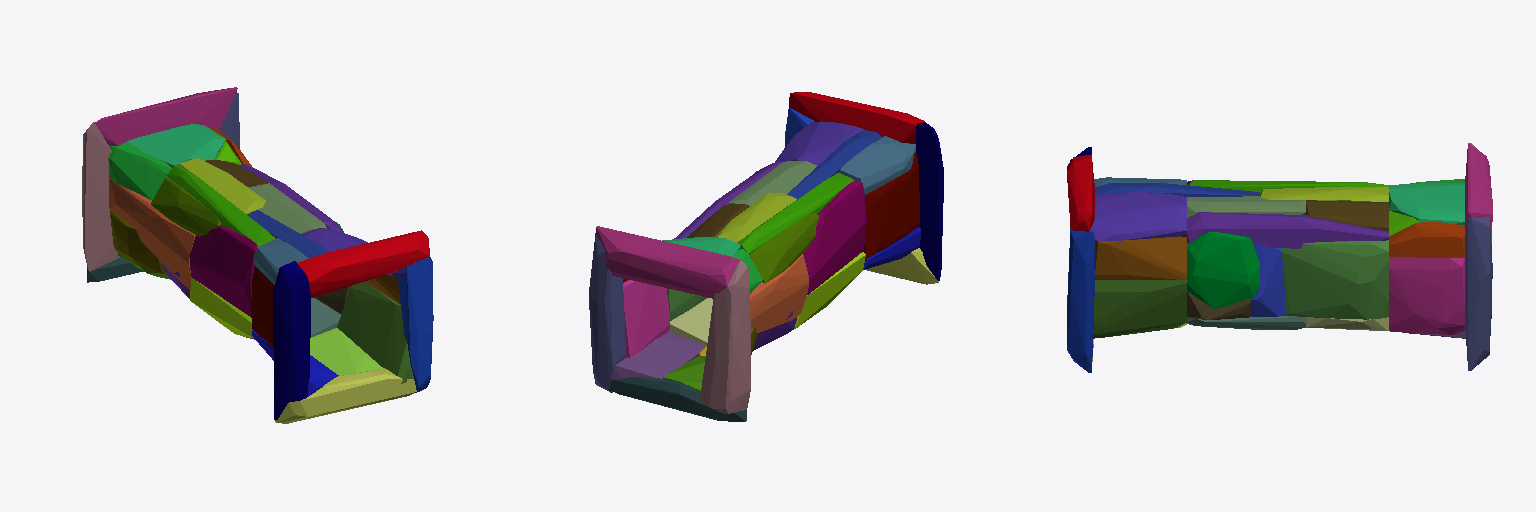
The model's file is GEOM_zisb_cave_short_1.obj.
3 renders of one model, left to right at view 1: azimuth 30°, elevation 25°; view 2: azimuth 150°, elevation 25°; view 3: azimuth 270°, elevation 25°, orthographic.
Parts seen in each view (by area): view 1: UCX_defaultobject_defaultobject_035, UCX_defaultobject_defaultobject_029, UCX_defaultobject_defaultobject_024, UCX_defaultobject_defaultobject_039, UCX_defaultobject_defaultobject_038, UCX_defaultobject_defaultobject_040, UCX_defaultobject_defaultobject_016, UCX_defaultobject_defaultobject_037, UCX_defaultobject_defaultobject_022, UCX_defaultobject_defaultobject_015, UCX_defaultobject_defaultobject_010, UCX_defaultobject_defaultobject_007 (+17 smaller); view 2: UCX_defaultobject_defaultobject_038, UCX_defaultobject_defaultobject_040, UCX_defaultobject_defaultobject_039, UCX_defaultobject_defaultobject_020, UCX_defaultobject_defaultobject_017, UCX_defaultobject_defaultobject_035, UCX_defaultobject_defaultobject_029, UCX_defaultobject_defaultobject_016, UCX_defaultobject_defaultobject_018, UCX_defaultobject_defaultobject_011, UCX_defaultobject_defaultobject_001, UCX_defaultobject_defaultobject_014 (+16 smaller); view 3: UCX_defaultobject_defaultobject_042, UCX_defaultobject_defaultobject_018, UCX_defaultobject_defaultobject_024, UCX_defaultobject_defaultobject_041, UCX_defaultobject_defaultobject_032, UCX_defaultobject_defaultobject_023, UCX_defaultobject_defaultobject_027, UCX_defaultobject_defaultobject_020, UCX_defaultobject_defaultobject_022, UCX_defaultobject_defaultobject_015, UCX_defaultobject_defaultobject_013, UCX_defaultobject_defaultobject_036 (+10 smaller).
Boxes of the visible parts, x1,y1,x2,y2 form: UCX_defaultobject_defaultobject_035: [273, 261, 310, 419]; UCX_defaultobject_defaultobject_029: [297, 230, 429, 297]; UCX_defaultobject_defaultobject_024: [337, 282, 413, 383]; UCX_defaultobject_defaultobject_039: [190, 225, 257, 317]; UCX_defaultobject_defaultobject_038: [95, 87, 237, 145]; UCX_defaultobject_defaultobject_040: [82, 122, 119, 271]; UCX_defaultobject_defaultobject_016: [109, 178, 195, 289]; UCX_defaultobject_defaultobject_037: [275, 368, 416, 423]; UCX_defaultobject_defaultobject_022: [397, 256, 433, 392]; UCX_defaultobject_defaultobject_015: [128, 124, 226, 167]; UCX_defaultobject_defaultobject_010: [108, 141, 171, 199]; UCX_defaultobject_defaultobject_007: [167, 166, 275, 246]; UCX_defaultobject_defaultobject_038: [596, 226, 740, 298]; UCX_defaultobject_defaultobject_040: [700, 261, 750, 413]; UCX_defaultobject_defaultobject_039: [803, 180, 866, 294]; UCX_defaultobject_defaultobject_020: [589, 233, 625, 392]; UCX_defaultobject_defaultobject_017: [863, 152, 919, 259]; UCX_defaultobject_defaultobject_035: [916, 123, 943, 280]; UCX_defaultobject_defaultobject_029: [789, 92, 925, 143]; UCX_defaultobject_defaultobject_016: [750, 254, 808, 332]; UCX_defaultobject_defaultobject_018: [623, 280, 669, 357]; UCX_defaultobject_defaultobject_011: [609, 376, 746, 421]; UCX_defaultobject_defaultobject_001: [839, 136, 915, 194]; UCX_defaultobject_defaultobject_014: [611, 332, 706, 379]; UCX_defaultobject_defaultobject_042: [1282, 240, 1388, 319]; UCX_defaultobject_defaultobject_018: [1389, 257, 1464, 334]; UCX_defaultobject_defaultobject_024: [1093, 280, 1186, 338]; UCX_defaultobject_defaultobject_041: [1187, 232, 1259, 308]; UCX_defaultobject_defaultobject_032: [1187, 212, 1388, 248]; UCX_defaultobject_defaultobject_023: [1090, 192, 1186, 240]; UCX_defaultobject_defaultobject_027: [1095, 236, 1186, 279]; UCX_defaultobject_defaultobject_020: [1465, 216, 1492, 370]; UCX_defaultobject_defaultobject_022: [1067, 228, 1094, 372]; UCX_defaultobject_defaultobject_015: [1389, 183, 1464, 225]; UCX_defaultobject_defaultobject_013: [1389, 222, 1464, 257]; UCX_defaultobject_defaultobject_036: [1251, 243, 1284, 316].
Size of the model in its own units: 4.24 by 4.28 by 10.03.